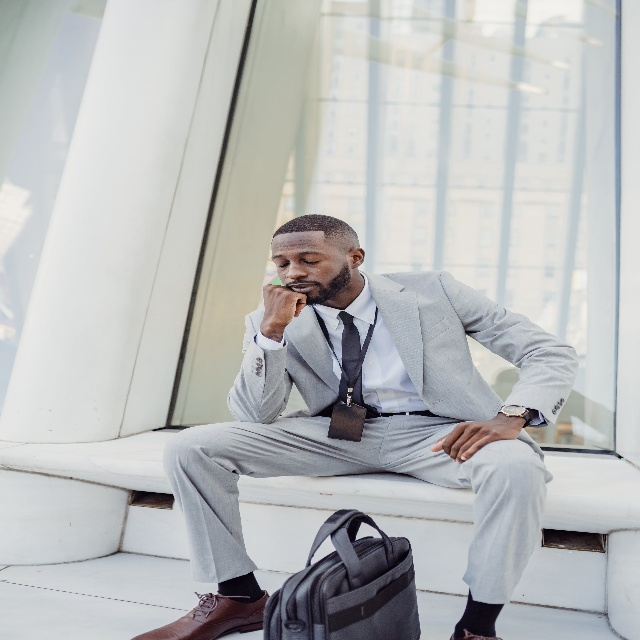Sin_guantes: (431, 413, 521, 465), (262, 283, 307, 329)
